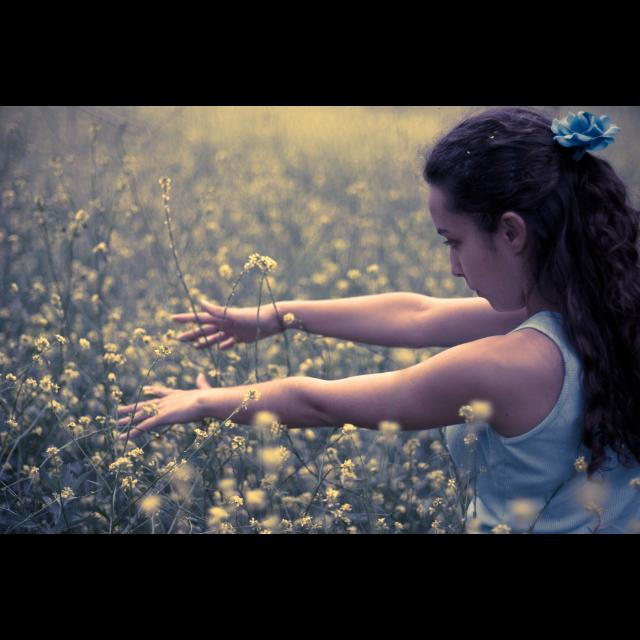Flower: (3, 106, 511, 534), (559, 108, 623, 146), (574, 455, 588, 469)
